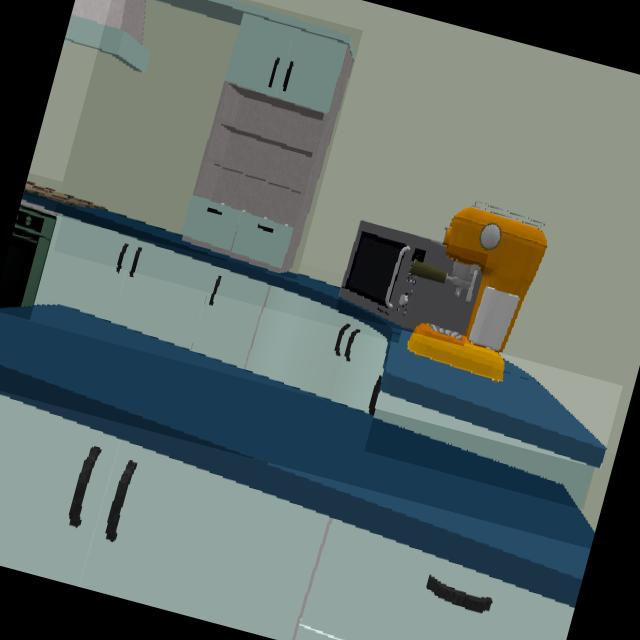cabinet: (0, 394, 575, 640), (34, 215, 389, 412), (150, 0, 354, 272), (372, 391, 594, 508)
countertop: (0, 306, 595, 607), (64, 206, 400, 341), (378, 323, 605, 468), (21, 190, 74, 214)
microwave: (338, 221, 481, 334)
oven: (0, 208, 57, 309)
stove: (23, 178, 94, 207)
